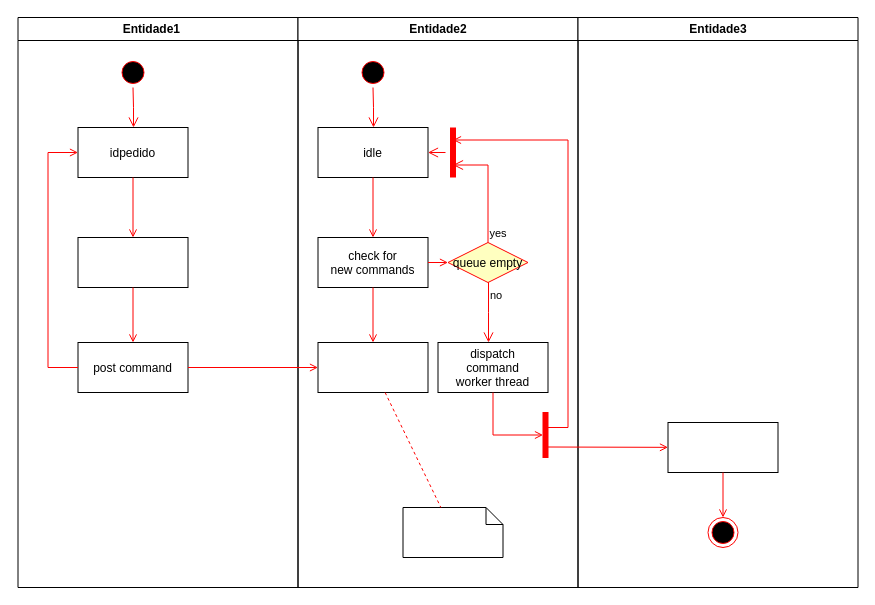
The diagram is 875 pixels wide and 605 high, and some of its shapes have lost their labels. The shapes that lost their labels are listed below. From the top down, each one's centre as x and y in pixels, then its label:
point (132, 262): user action
point (372, 367): command queue
point (722, 447): process command
point (452, 532): critical section
